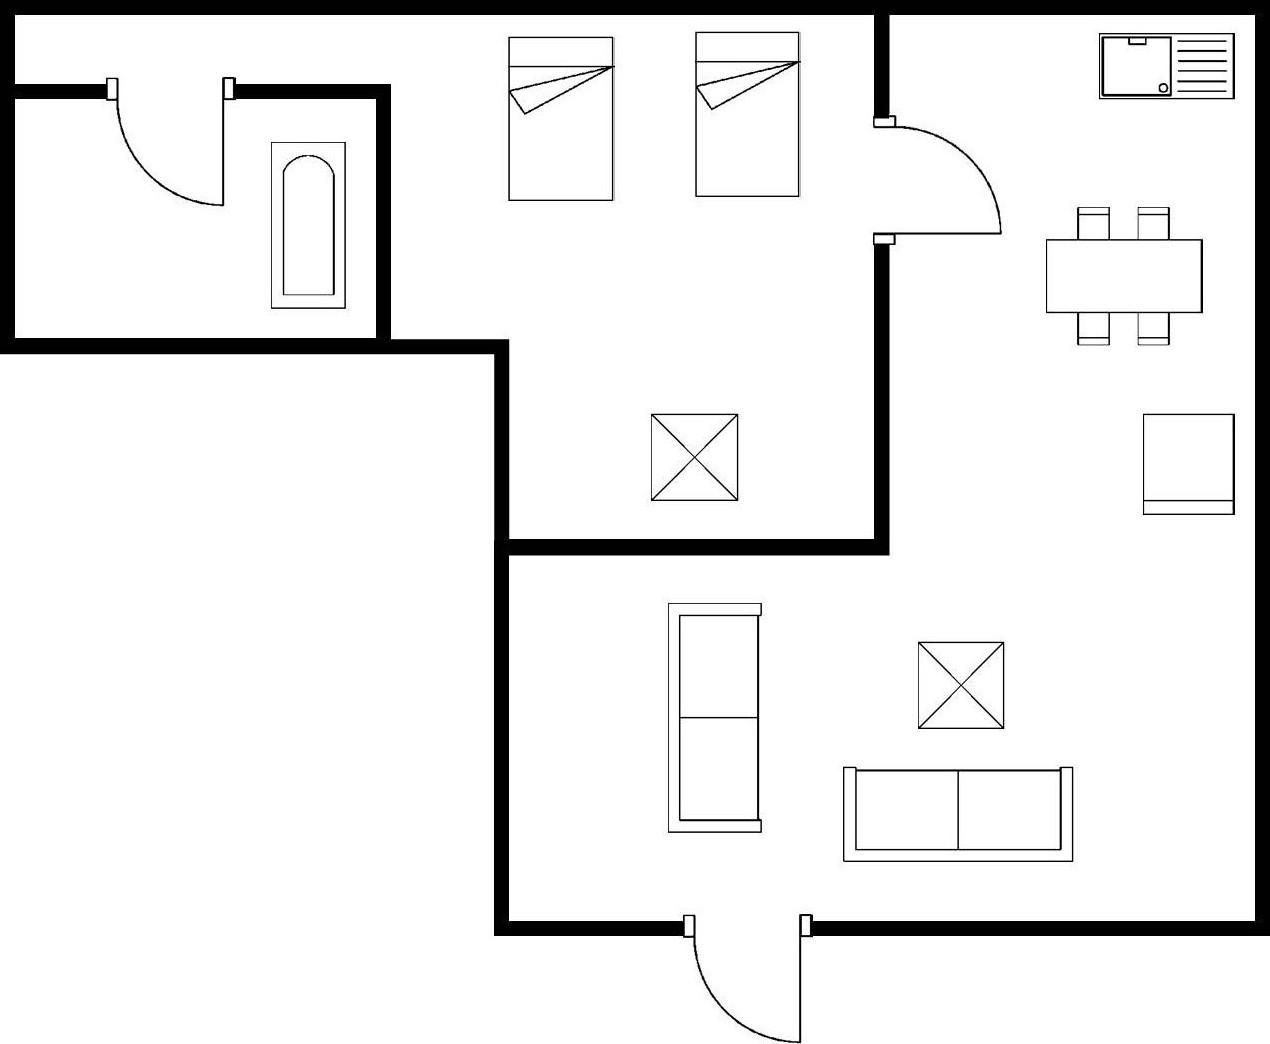bed: (500, 31, 619, 207), (690, 26, 806, 204)
dining_table: (1040, 202, 1211, 352)
sink: (1093, 26, 1240, 103)
sofa: (834, 760, 1081, 867), (660, 597, 768, 838)
tub: (262, 136, 350, 313)
